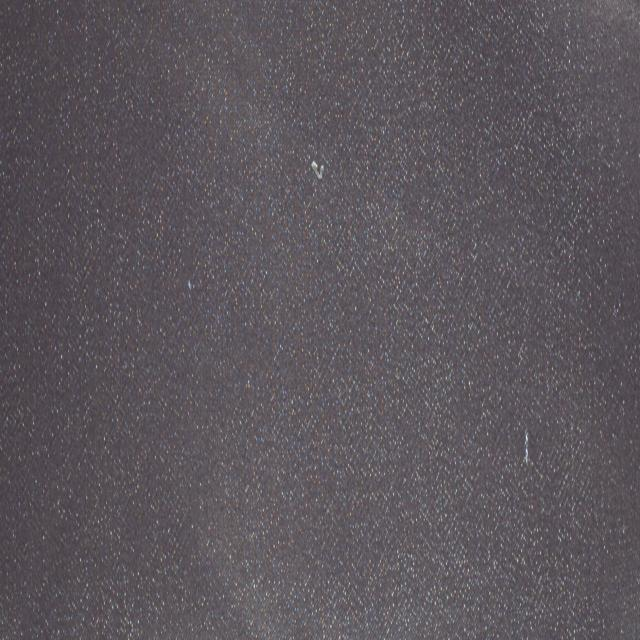Knot: (312, 161, 325, 179), (524, 431, 529, 466)
